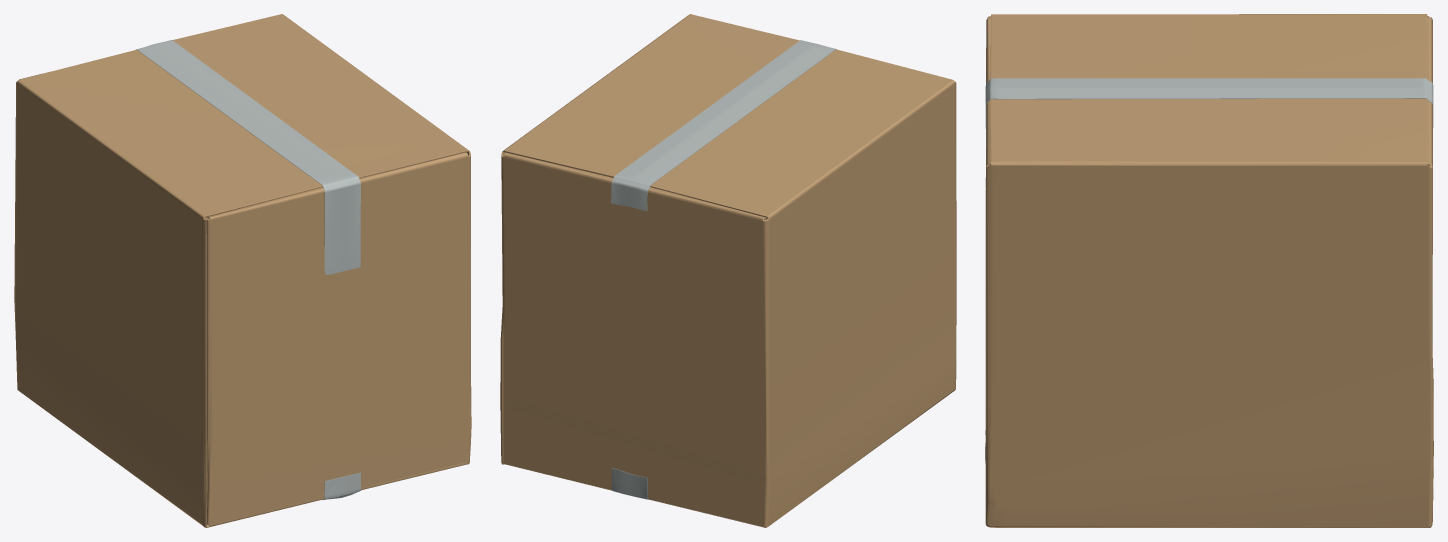
File: box_printer_brown_b05.glb
3 renders of one model, left to right at view 1: azimuth 30°, elevation 25°; view 2: azimuth 150°, elevation 25°; view 3: azimuth 270°, elevation 25°, orthographic. The views are drawn at different scales.
Bounding box in the file's own units: 0.2252 × 0.2561 × 0.2795.
